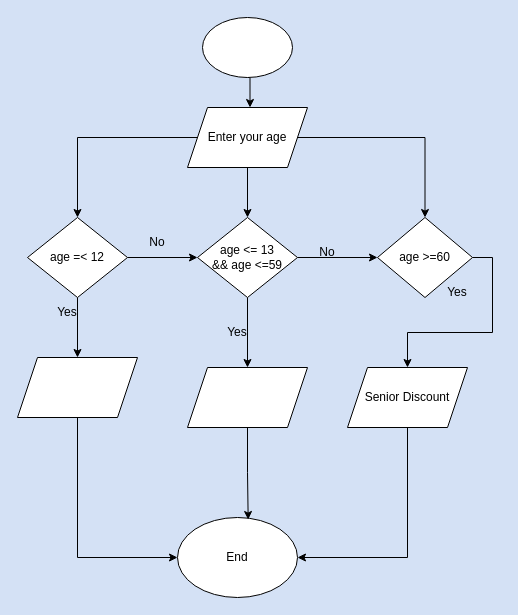
Some shapes in this 518 by 615 pixel diagram are drawn without their labels. The centre of each missing label's shape, as x and y in pixels:
"Child Discount" belongs at point 77,387.
"Regular ticket" belongs at point 247,397.
"Start" belongs at point 247,47.
